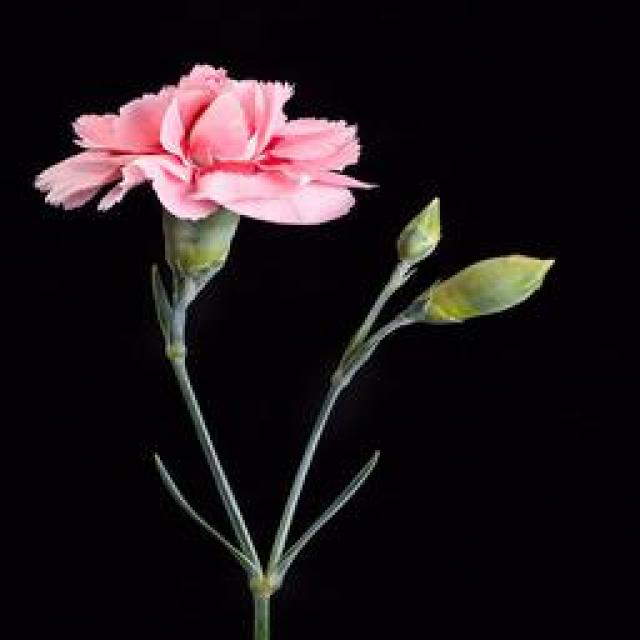carnation: (31, 60, 381, 297)
